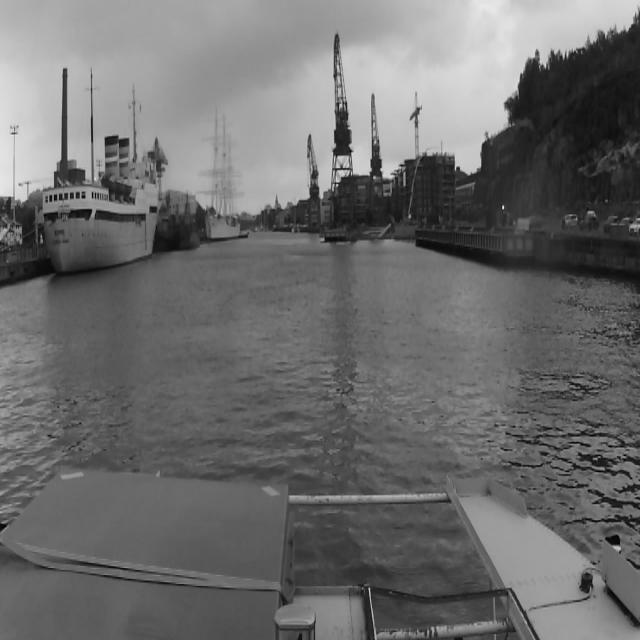ship: (44, 136, 160, 268), (197, 109, 245, 240), (176, 189, 200, 250), (153, 190, 175, 252), (291, 204, 300, 233)
